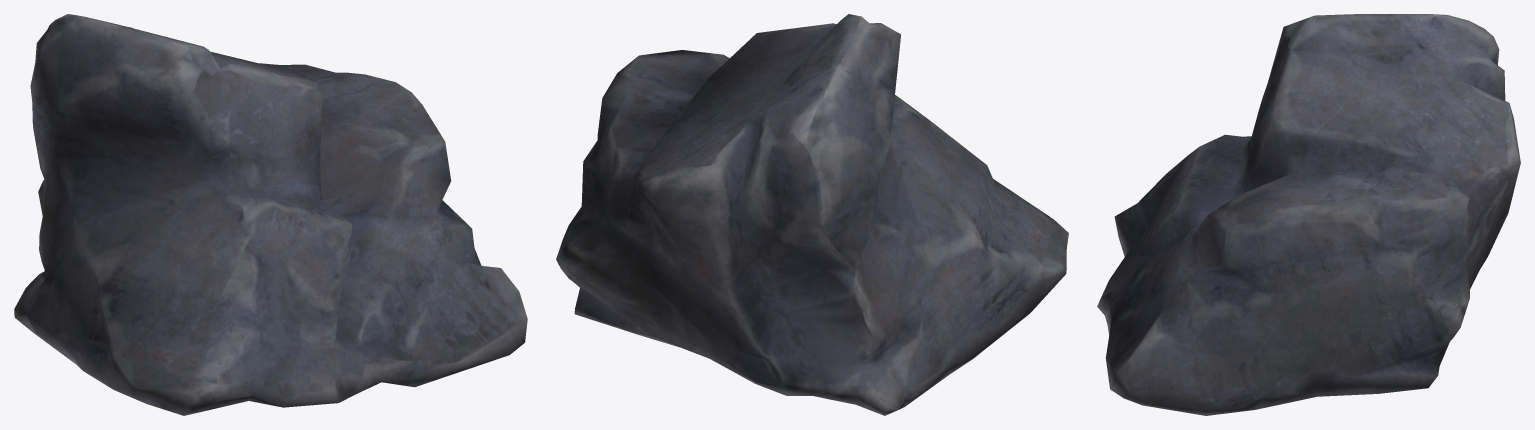
Rendered from Ht_shitou_01.FBX.
The picture shows the model from 3 angles, left to right: view 1: azimuth 30°, elevation 25°; view 2: azimuth 150°, elevation 25°; view 3: azimuth 270°, elevation 25°; orthographic projection. The views are drawn at different scales.
Parts seen in each view (by area): view 1: Ht_shitou_01; view 2: Ht_shitou_01; view 3: Ht_shitou_01.
Part boxes in pixels (<box>): Ht_shitou_01: <box>14,14,527,415</box>; Ht_shitou_01: <box>556,14,1068,415</box>; Ht_shitou_01: <box>1097,14,1520,415</box>.
Size of the model in its own units: 435 by 456 by 347.
Materials: 1 (1 with a texture image).
